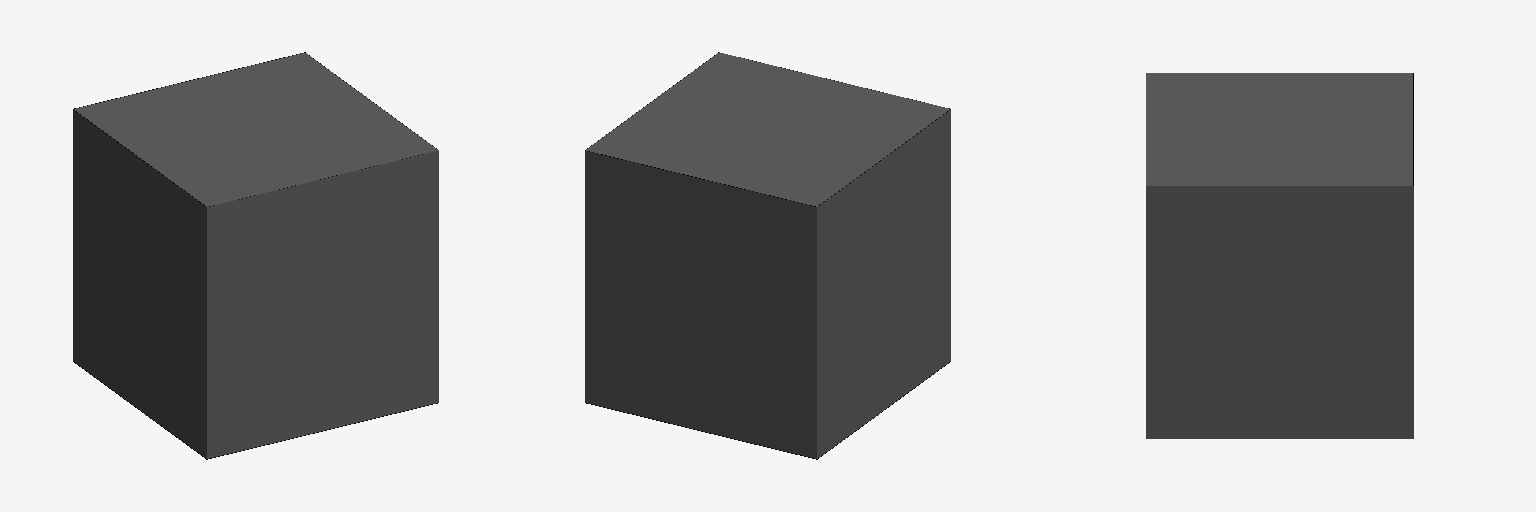
3 views of the same model, side by side, from view 1: azimuth 30°, elevation 25°; view 2: azimuth 150°, elevation 25°; view 3: azimuth 270°, elevation 25° (orthographic).
Visible parts, largest first — view 1: gear_box_Cube.005; view 2: gear_box_Cube.005; view 3: gear_box_Cube.005.
Part boxes in pixels (x1,y1,x2,y2): gear_box_Cube.005: (73,52,438,459); gear_box_Cube.005: (585,52,950,459); gear_box_Cube.005: (1146,73,1413,438).
Size of the model in its own units: 0.8 by 0.8301 by 0.8.
Materials: 1 (1 with a texture image).